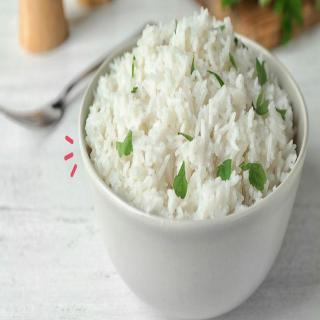Nasi: (84, 5, 299, 221)
